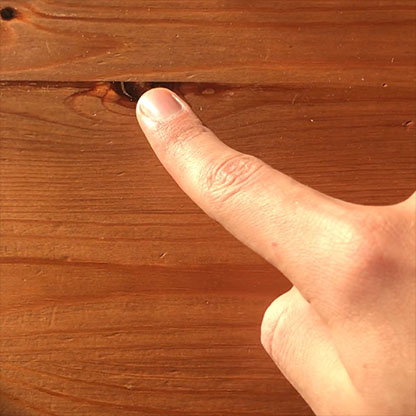fingertip: (127, 81, 208, 145)
